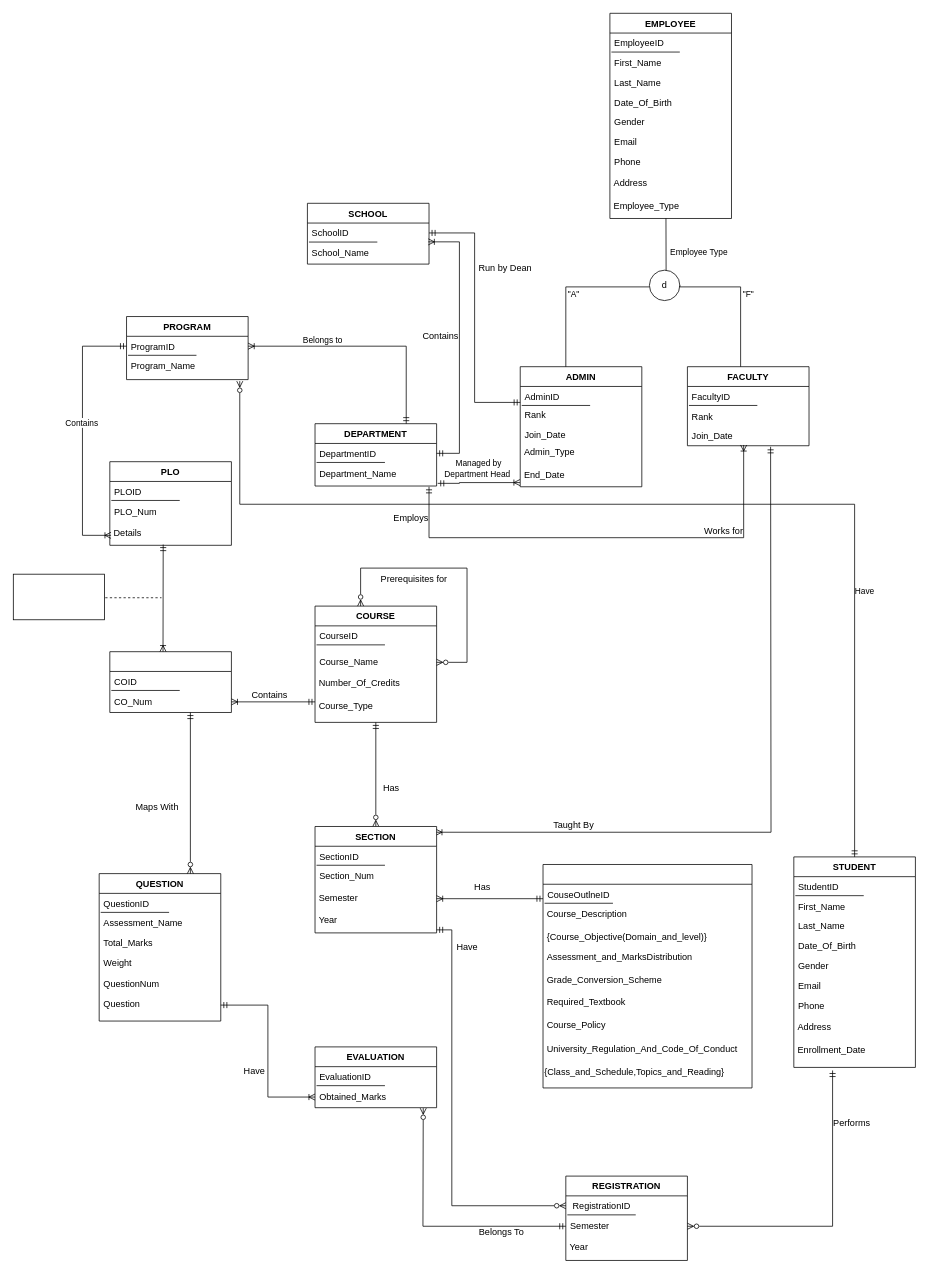
Image size: 929x1274. Some labels were removed from this diagram. The box of each missing label's shape, as (x1, y1, x2, y2) in pixels:
CO: (109, 651, 231, 712)
COURSE OUTLNE: (542, 864, 752, 1088)
PLO_CLO co-relation: (13, 573, 104, 620)
